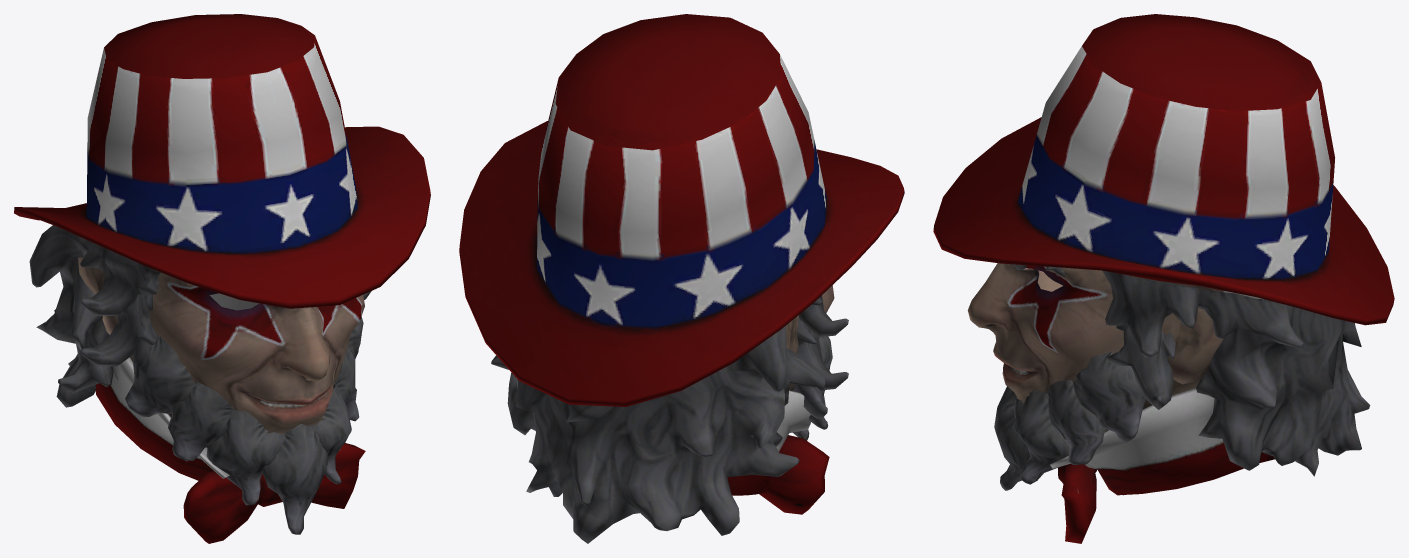
The model's file is SurvivorMale_Head_Mask_Leprechaun_LOD0.glb.
3 renders of one model, left to right at view 1: azimuth 30°, elevation 25°; view 2: azimuth 150°, elevation 25°; view 3: azimuth 270°, elevation 25°, orthographic. The views are drawn at different scales.
Parts seen in each view (by area): view 1: Hoodie; view 2: Hoodie; view 3: Hoodie.
Part boxes in pixels (x1,y1,x2,y2): Hoodie: (14,14,430,543); Hoodie: (459,14,904,543); Hoodie: (933,14,1394,543).
Size of the model in its own units: 0.2798 by 0.3481 by 0.3114.
Materials: 1 (1 with a texture image).
